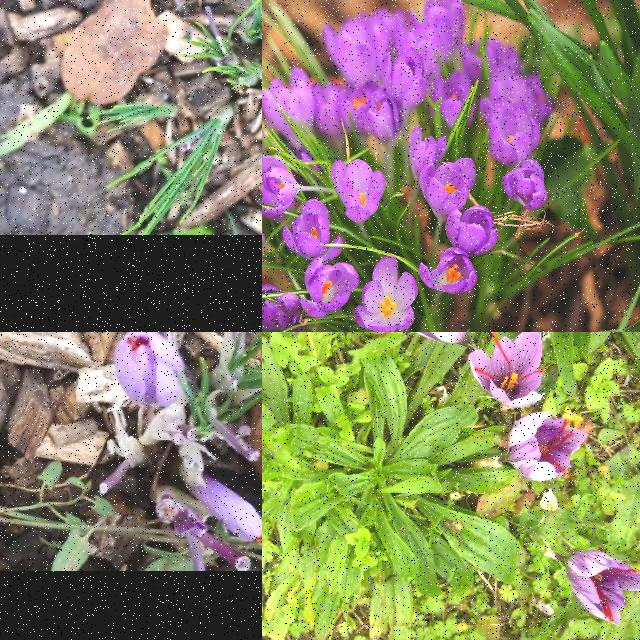flower: (468, 332, 546, 408), (565, 549, 640, 628), (507, 412, 588, 482), (116, 332, 186, 408), (188, 475, 262, 545)
